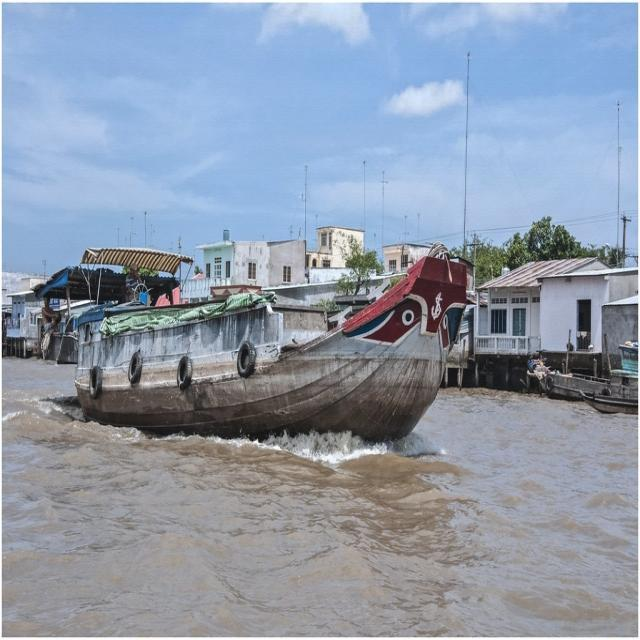boat: (42, 242, 474, 437)
